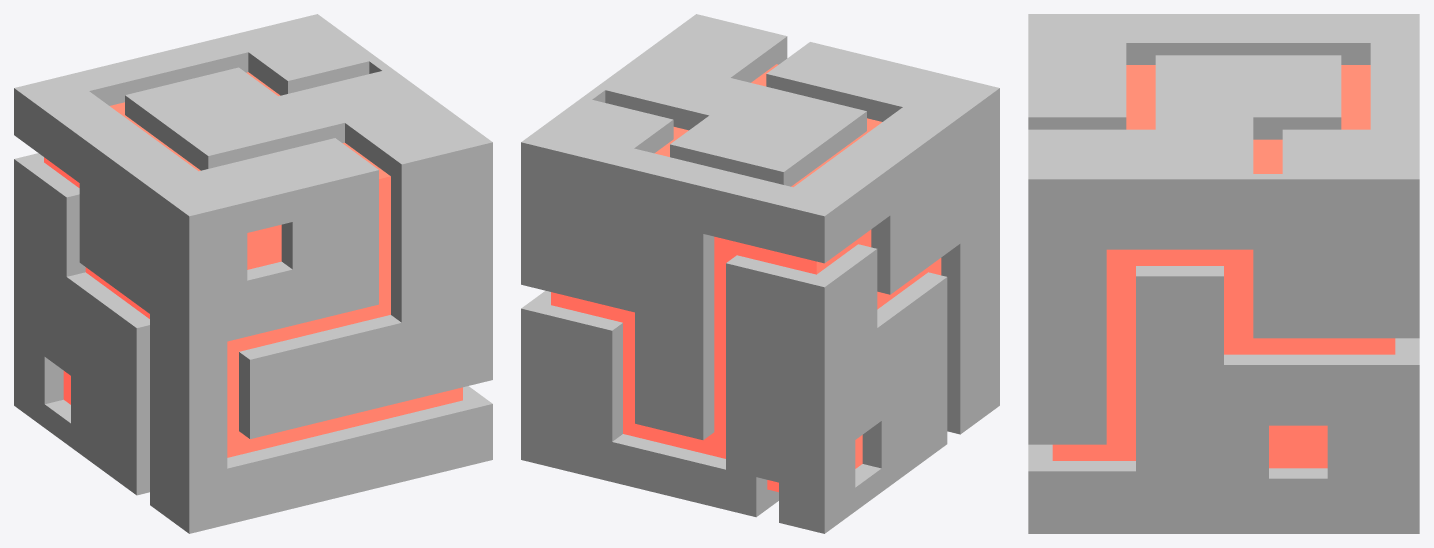
3 views of the same model, side by side, from view 1: azimuth 30°, elevation 25°; view 2: azimuth 150°, elevation 25°; view 3: azimuth 270°, elevation 25° (orthographic). The views are drawn at different scales.
Visible parts, largest first — view 1: main, light; view 2: main, light; view 3: main, light.
Boxes of the visible parts, left/top/right/bottom form: main: left=14, top=14, right=492, bottom=533; light: left=44, top=72, right=462, bottom=457; main: left=521, top=14, right=999, bottom=533; light: left=551, top=64, right=941, bottom=492; main: left=1028, top=14, right=1419, bottom=533; light: left=1052, top=65, right=1395, bottom=468.
Size of the model in its own units: 2 by 2 by 2.
